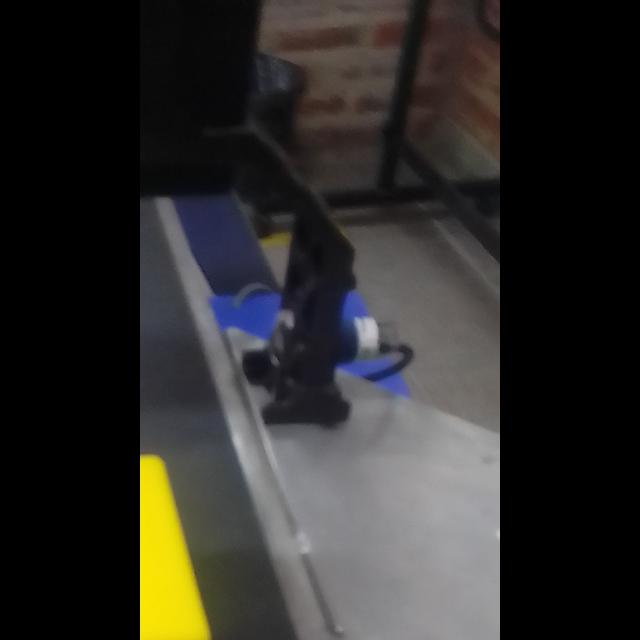yellowBox: (140, 442, 226, 640)
